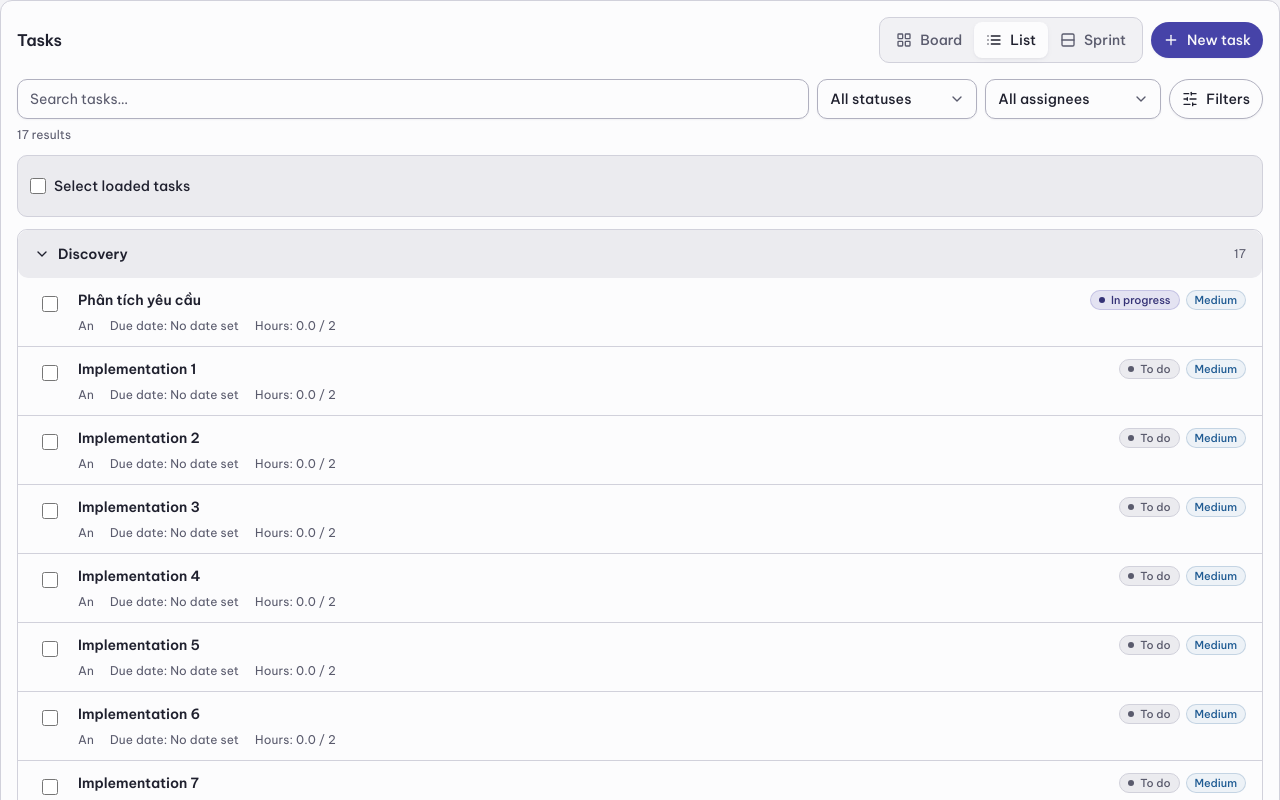
Test: task list interactions › defaults mobile to list; debounces search to 1 result, retains it across views and clear restores 17
Check: the message reads "17 results", box [17, 127, 71, 142]
Click the search field at (413, 99), box [17, 79, 809, 119]
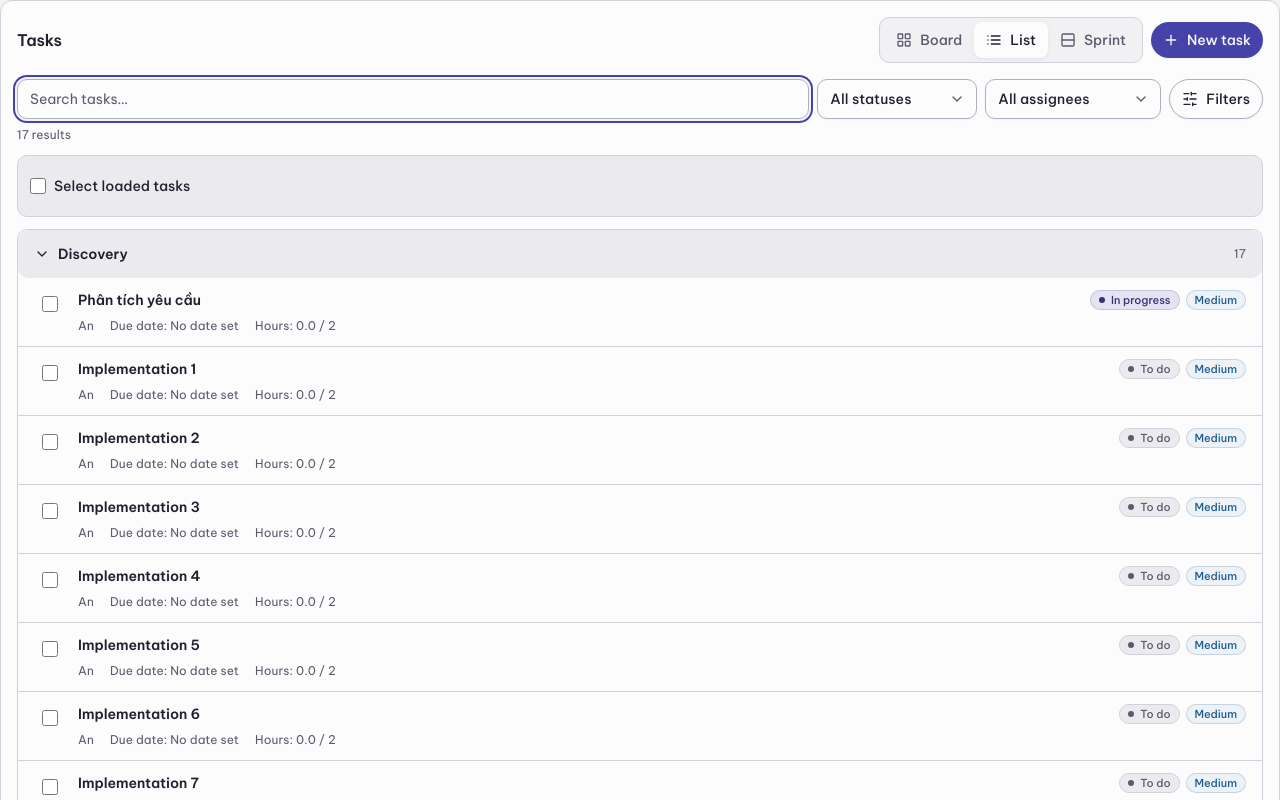
Type keys "Phân tích"
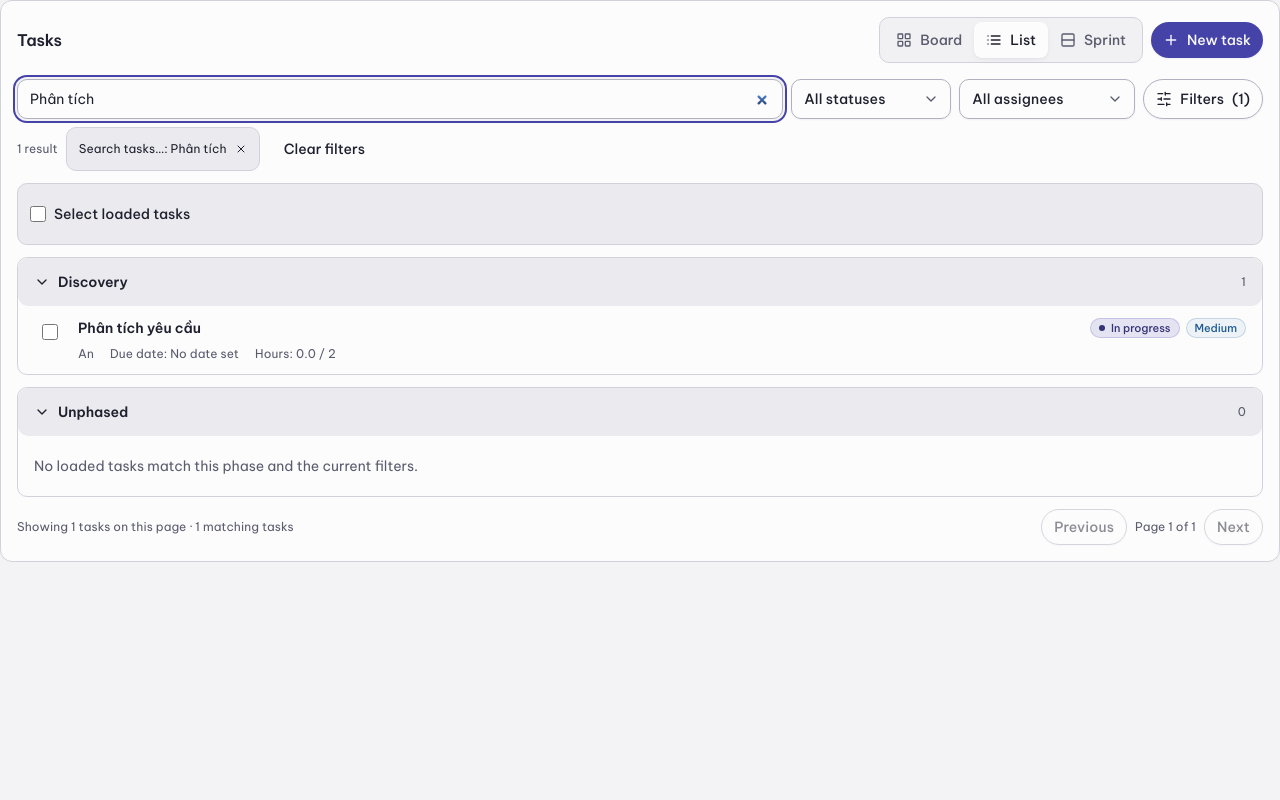
Check: the message reads "1 result", box [17, 141, 58, 156]
Click the button "Board" at (929, 40), box [884, 22, 974, 58]
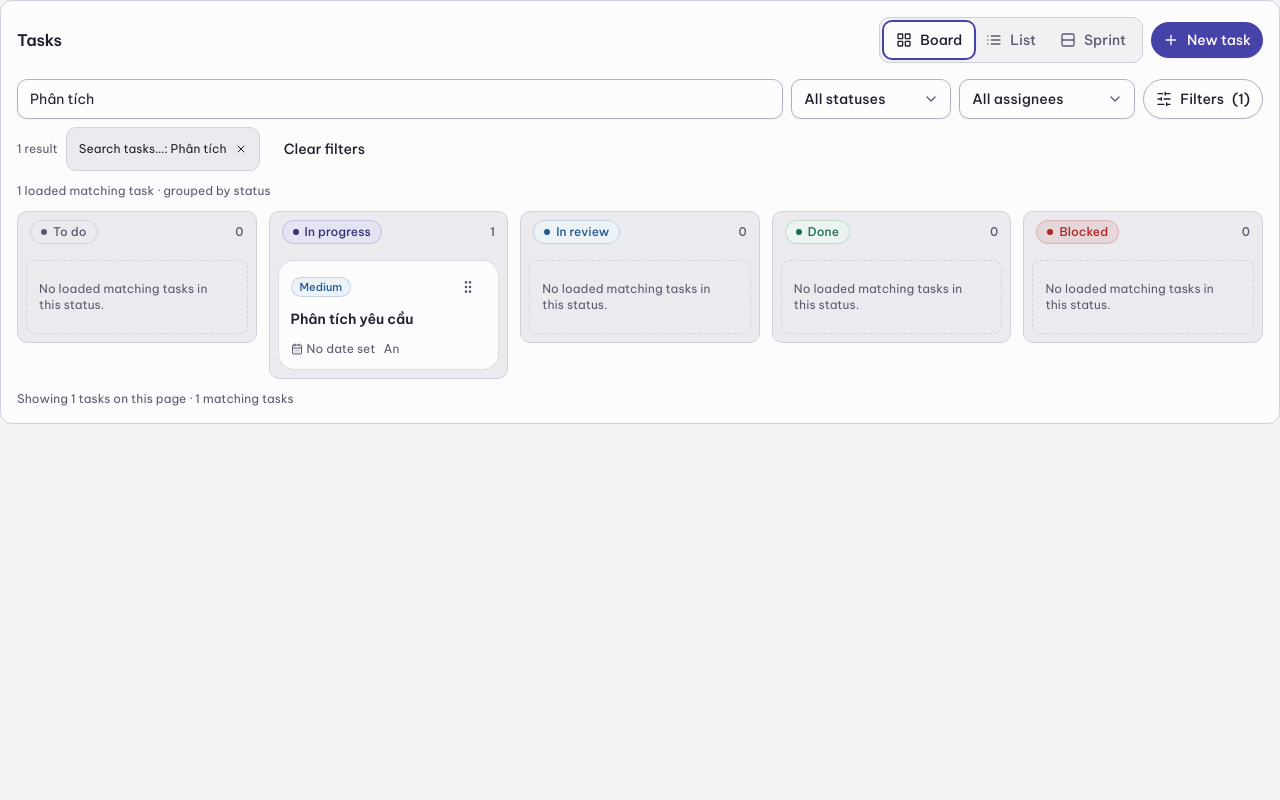
Check: the search field holds "Phân tích", box [17, 79, 783, 119]
Click the button "Clear filters" at (324, 149), box [268, 127, 381, 171]
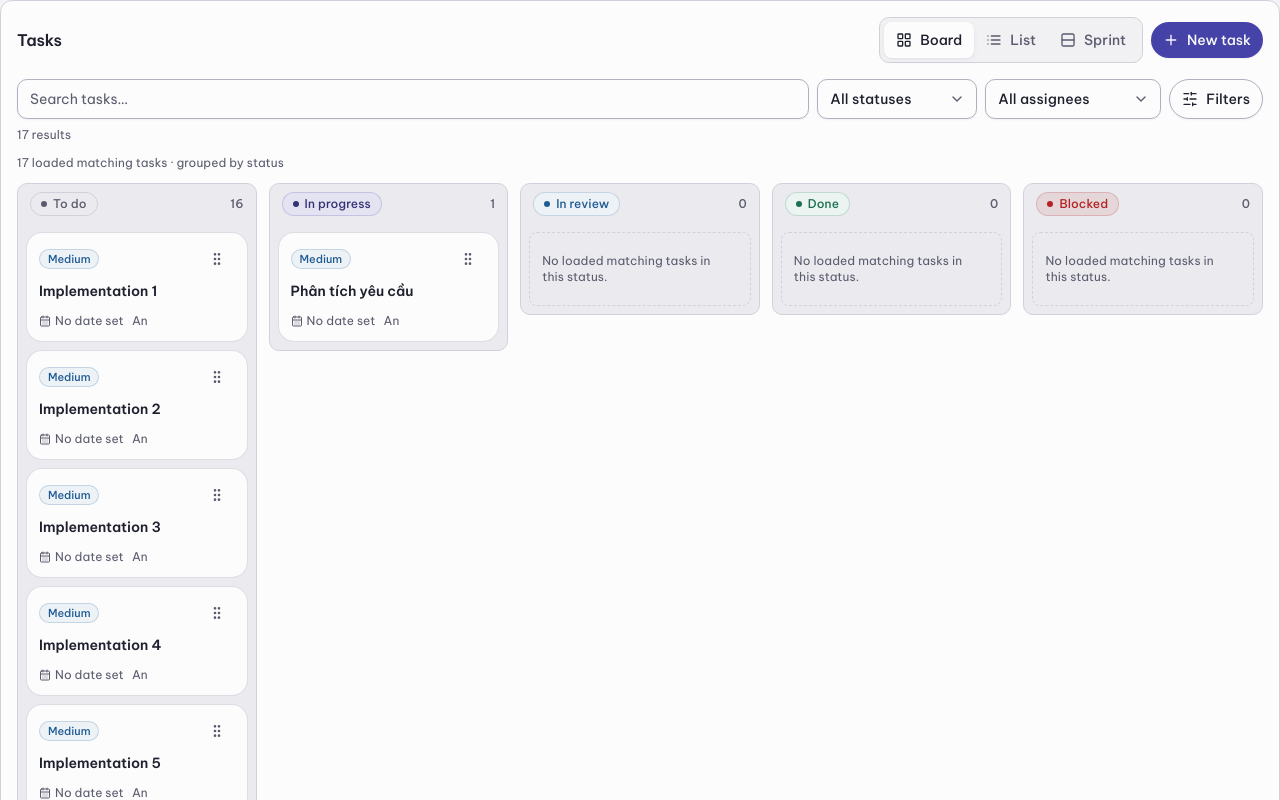
Check: the text "17 results" is shown, box [17, 127, 71, 143]
Check: the search field is empty, box [17, 79, 809, 119]
